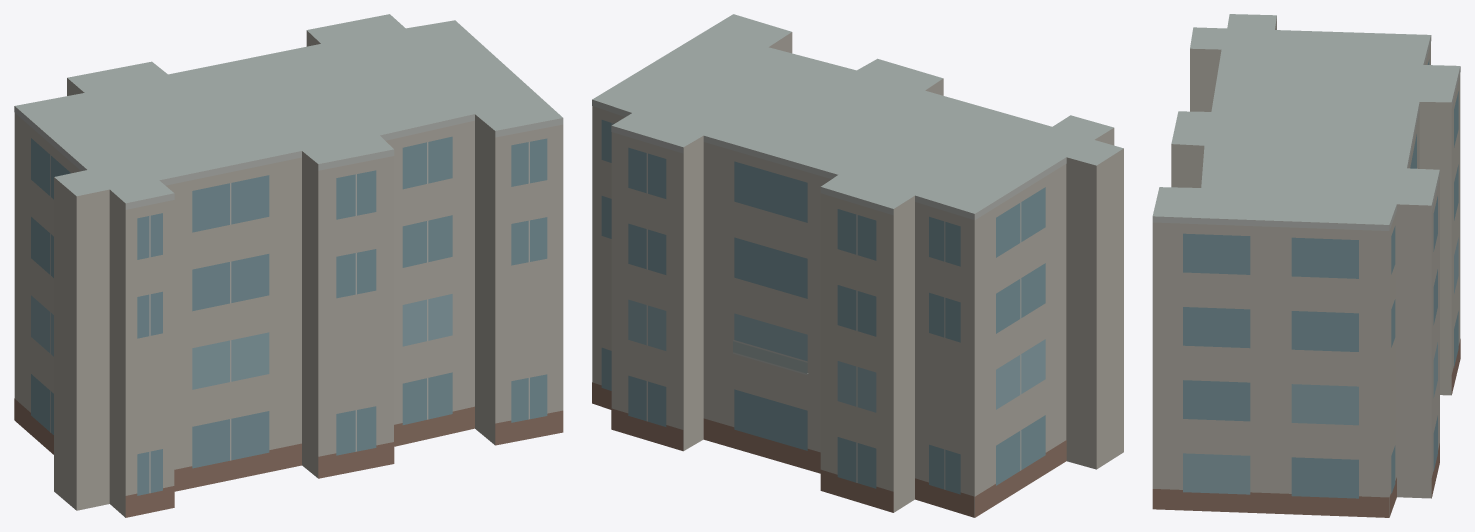
The model's file is survey-upis-32757029.glb.
3 views of the same model, side by side, from view 1: azimuth 30°, elevation 25°; view 2: azimuth 150°, elevation 25°; view 3: azimuth 270°, elevation 25° (orthographic). The views are drawn at different scales.
Visible parts, largest first — view 1: survey-upis-32757029.tmp; view 2: survey-upis-32757029.tmp; view 3: survey-upis-32757029.tmp.
Boxes of the visible parts, x1=… form: survey-upis-32757029.tmp: x1=14, y1=14, x2=563, y2=517; survey-upis-32757029.tmp: x1=592, y1=14, x2=1123, y2=517; survey-upis-32757029.tmp: x1=1152, y1=14, x2=1460, y2=517.
Size of the model in its own units: 18.01 by 11.65 by 11.11.
